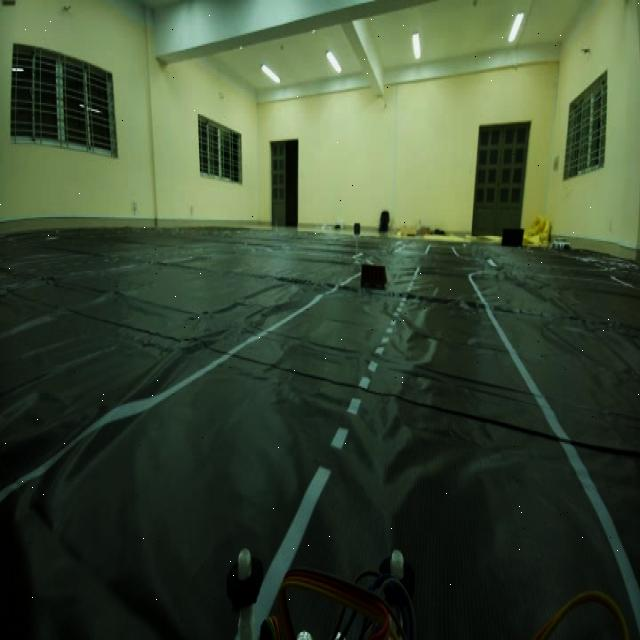roadblock: (357, 258, 391, 296)
